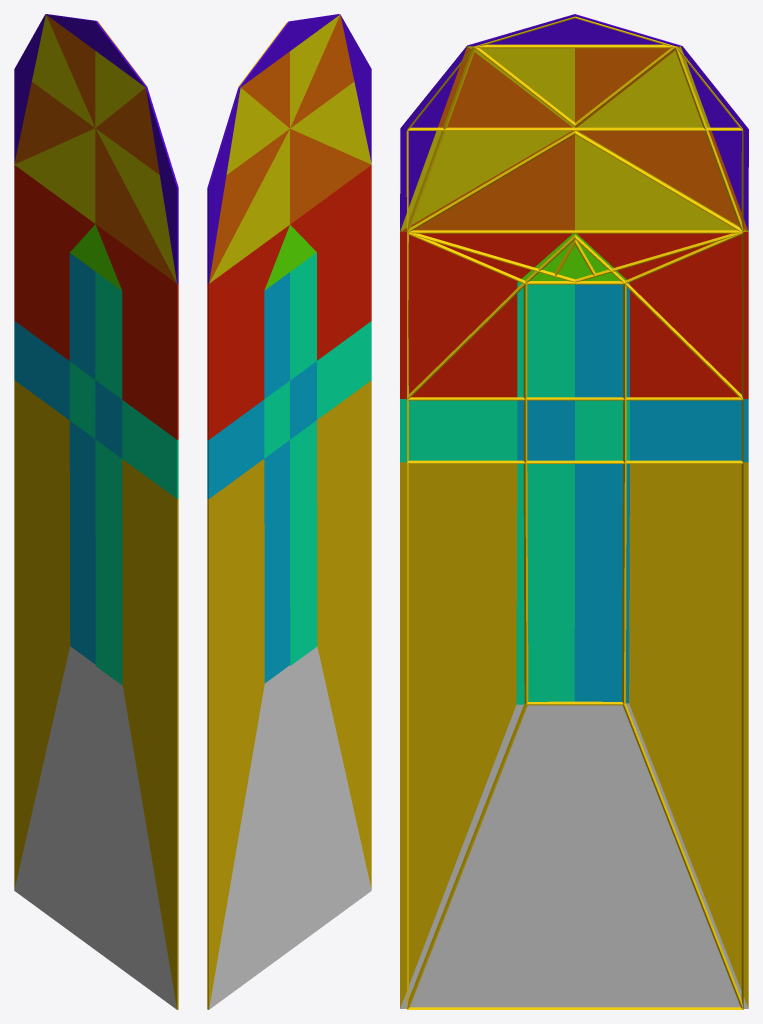
The model's file is church window.fbx.
The picture shows the model from 3 angles, left to right: view 1: azimuth 30°, elevation 25°; view 2: azimuth 150°, elevation 25°; view 3: azimuth 270°, elevation 25°; orthographic projection. The views are drawn at different scales.
Parts seen in each view (by area): view 1: Plane.007; view 2: Plane.007; view 3: Plane.007.
Part boxes in pixels (box(x1,y1,x2,y2)): Plane.007: box(14, 14, 178, 1009); Plane.007: box(207, 14, 371, 1009); Plane.007: box(400, 14, 748, 1009).
Size of the model in its own units: 4.27 by 1088 by 346.
